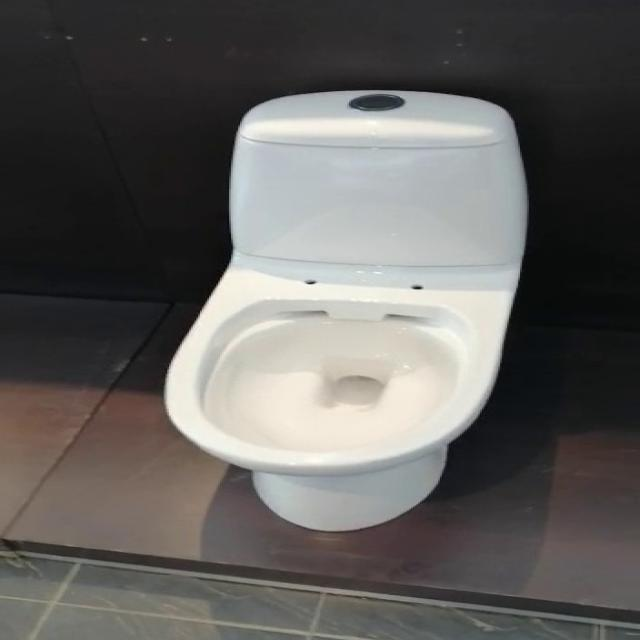toilet: (162, 89, 529, 532)
